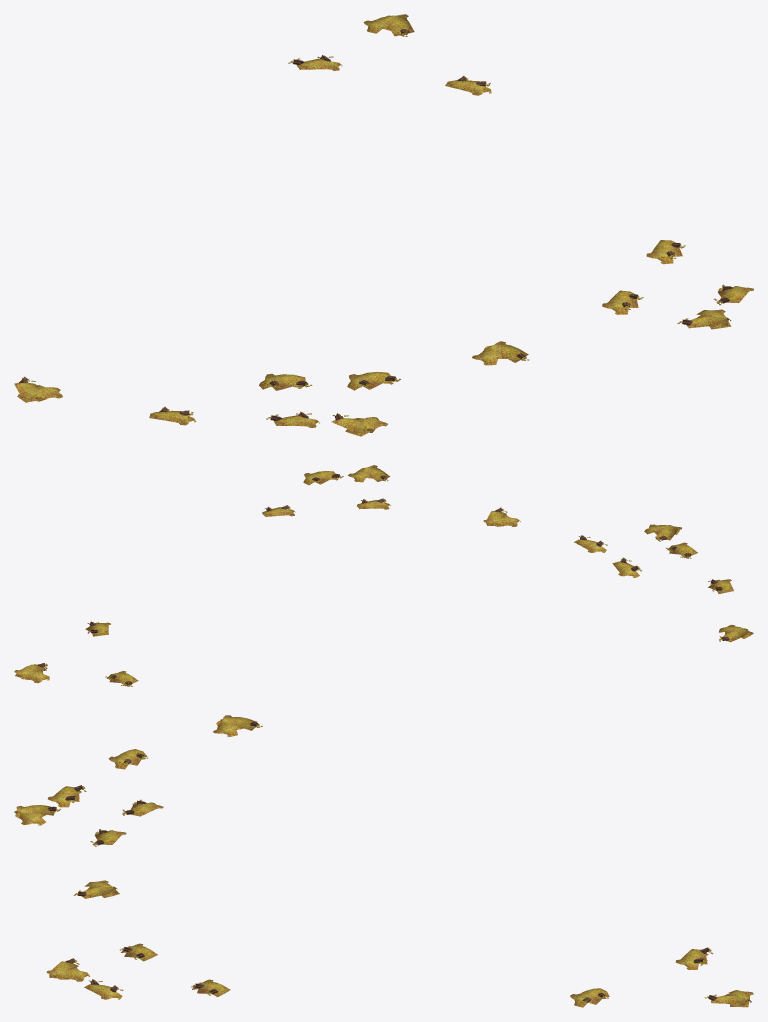
Rendered from wujian66.fbx.
3 renders of one model, top to bottom at view 1: azimuth 30°, elevation 25°; view 2: azimuth 150°, elevation 25°; view 3: azimuth 270°, elevation 25°, orthographic. The views are drawn at different scales.
Visible parts, largest first — view 1: wujian66; view 2: wujian66; view 3: wujian66.
Boxes of the visible parts, bbox=[...] form: wujian66: bbox=[14, 14, 753, 436]; wujian66: bbox=[14, 465, 753, 686]; wujian66: bbox=[14, 715, 753, 1007].
Size of the model in its own units: 8891 by 104 by 9557.
1 material, 1 textured.
